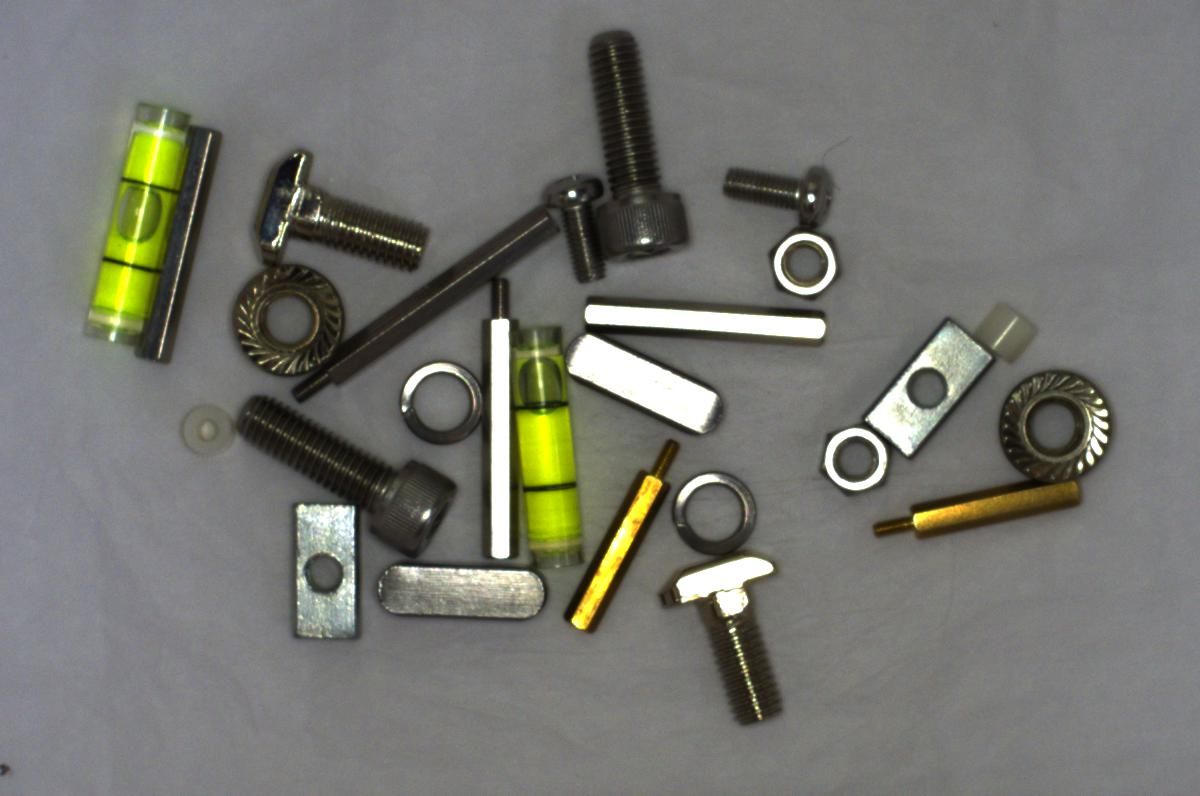Double hexagonal column: (133, 122, 223, 364), (571, 292, 834, 351)
Flange nut: (992, 355, 1128, 486), (228, 258, 352, 383)
Hexagon nut: (747, 222, 851, 310), (811, 414, 894, 498)
Hexagon pillar: (556, 430, 675, 632), (865, 476, 1105, 549)
Hexagon screw: (235, 394, 458, 556), (585, 15, 687, 267)
Hexagonal steel column: (289, 200, 555, 405), (466, 278, 525, 558)
Horizontal bubble: (83, 99, 197, 349)
Keybar: (550, 328, 732, 435), (364, 556, 557, 627)
Plastic cushion pillar: (969, 295, 1043, 369), (170, 394, 238, 460)
Rectangular nut: (866, 309, 982, 460), (284, 494, 364, 646)
Round head screw: (532, 165, 606, 292), (720, 158, 843, 228)
Spring washer: (667, 467, 764, 559), (393, 353, 483, 450)
T-shaped screw: (661, 548, 800, 730), (246, 146, 426, 277)
